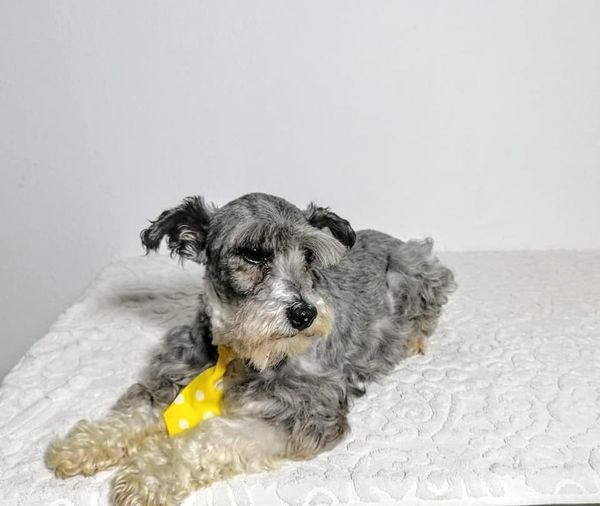dog: (37, 182, 475, 506)
